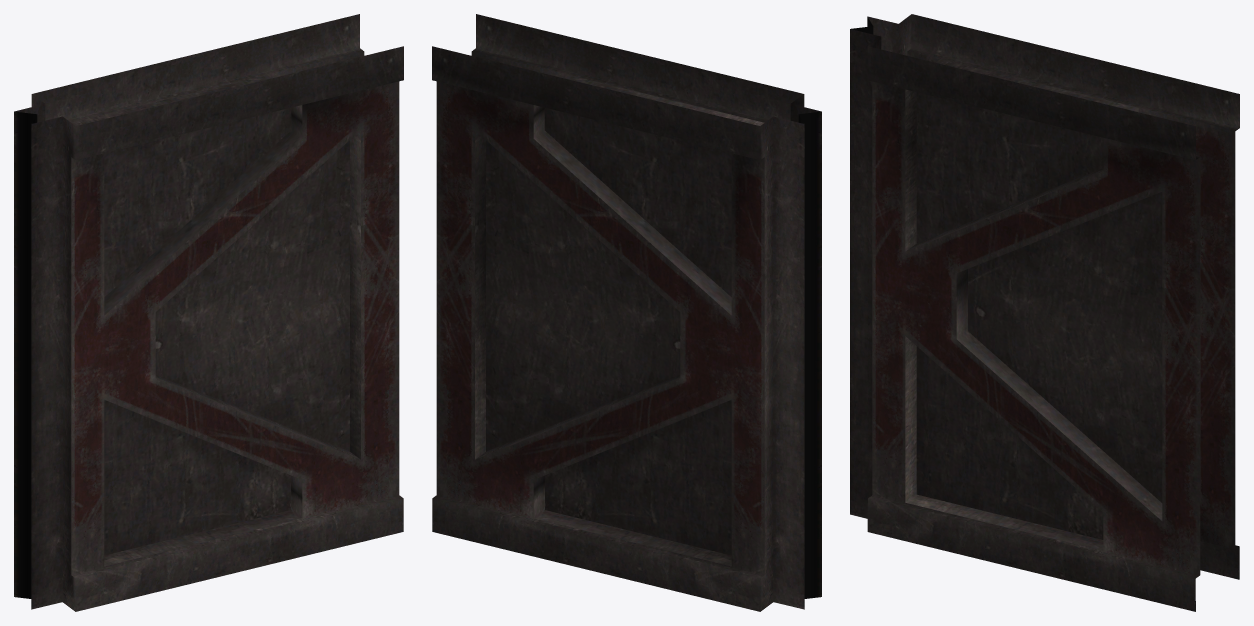
File: scp_door_big.dae
The picture shows the model from 3 angles, left to right: view 1: azimuth 30°, elevation 25°; view 2: azimuth 150°, elevation 25°; view 3: azimuth 330°, elevation 25°; orthographic projection.
Visible parts, largest first — view 1: ContDoorLeftMesh; view 2: ContDoorLeftMesh; view 3: ContDoorLeftMesh.
Boxes of the visible parts, box(x1,y1,x2,y2) form: ContDoorLeftMesh: box(14, 14, 403, 611); ContDoorLeftMesh: box(432, 14, 821, 611); ContDoorLeftMesh: box(850, 14, 1239, 611).
Bounding box in the file's own units: 1.87 × 0.3959 × 2.41.
Materials: 1 (1 with a texture image).
